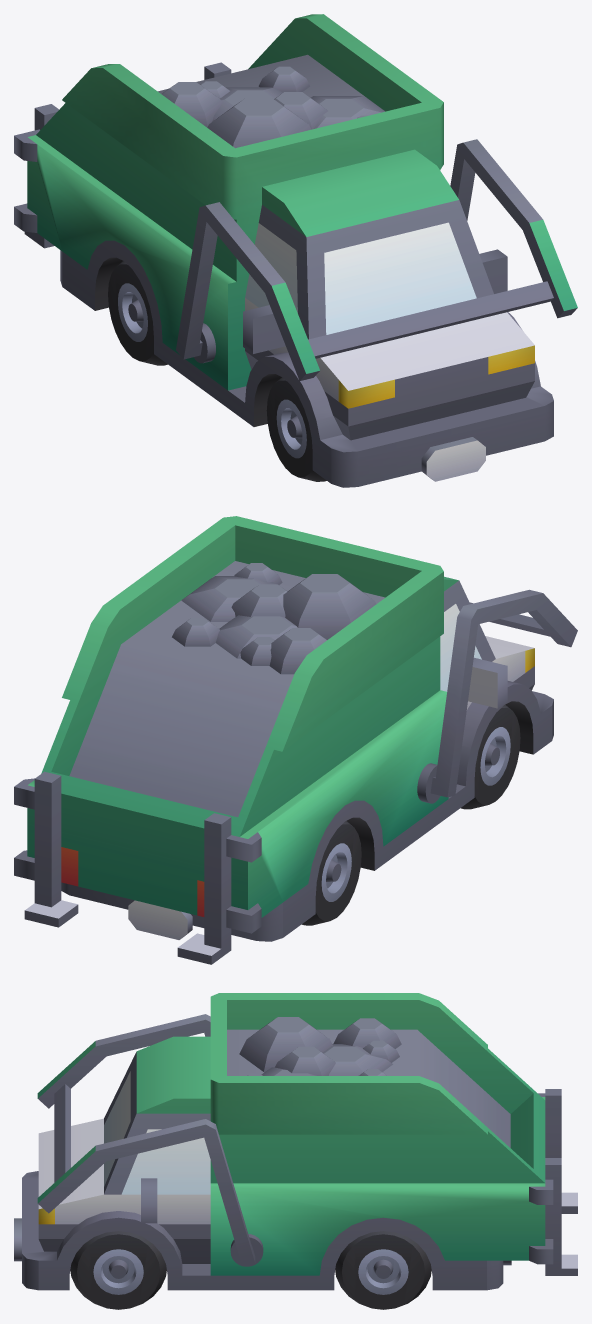
The model's file is mod-caminhao-lixo.gltf.
3 views of the same model, one above another, from view 1: azimuth 30°, elevation 25°; view 2: azimuth 150°, elevation 25°; view 3: azimuth 270°, elevation 25° (orthographic). The views are drawn at different scales.
Visible parts, largest first — view 1: arm; view 2: arm; view 3: arm.
Boxes of the visible parts, bbox=[...] form: arm: bbox=[14, 14, 577, 487]; arm: bbox=[14, 516, 577, 964]; arm: bbox=[14, 993, 577, 1309].
Bounding box in the file's own units: 1.02 × 1.02 × 2.21.
Materials: 1 (1 with a texture image).
